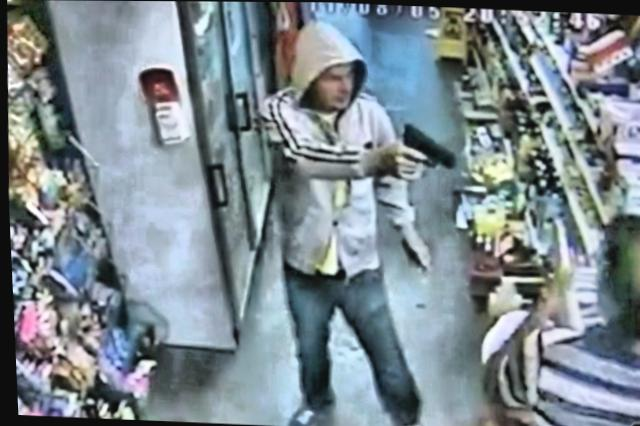pistol: (377, 114, 459, 195)
